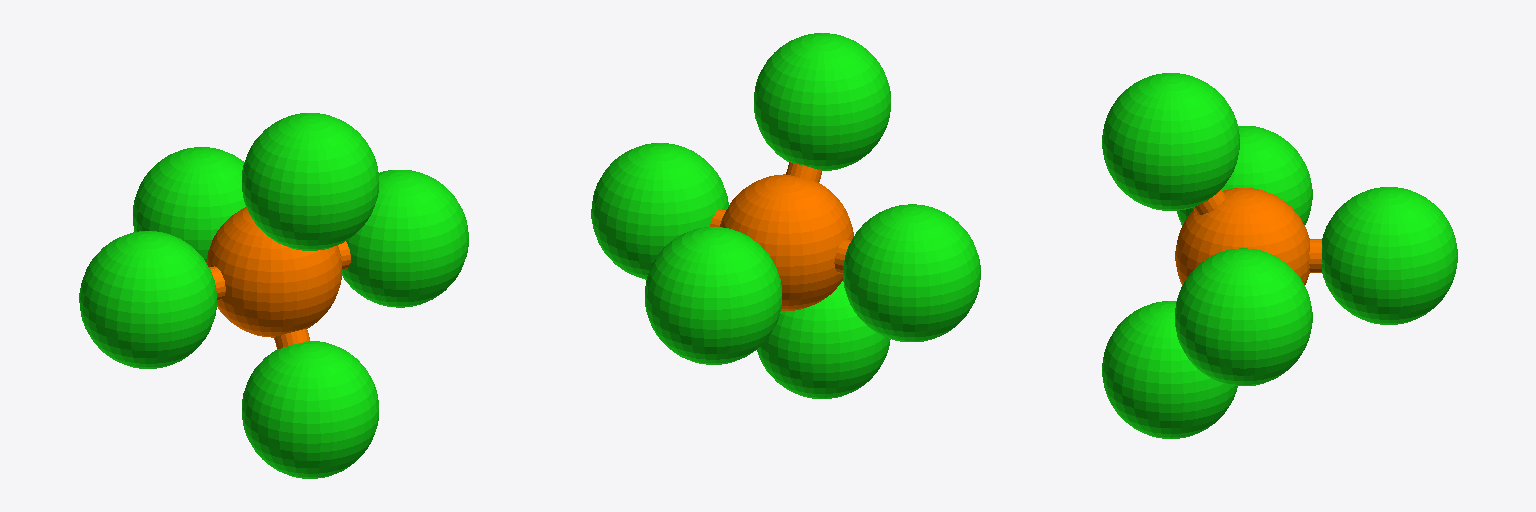
Rendered from PCl5.obj.
3 views of the same model, side by side, from view 1: azimuth 30°, elevation 25°; view 2: azimuth 150°, elevation 25°; view 3: azimuth 270°, elevation 25° (orthographic).
Visible parts, largest first — view 1: Chlorine_ball, Phosphorus_ball, Phosphorus_sticks_cylinder; view 2: Chlorine_ball, Phosphorus_ball, Phosphorus_sticks_cylinder; view 3: Chlorine_ball, Phosphorus_ball, Phosphorus_sticks_cylinder.
Boxes of the visible parts, box(x1,y1,x2,y2) form: Chlorine_ball: box(79, 113, 468, 478); Phosphorus_ball: box(206, 207, 341, 337); Phosphorus_sticks_cylinder: box(209, 241, 350, 348); Chlorine_ball: box(591, 33, 980, 398); Phosphorus_ball: box(720, 174, 853, 310); Phosphorus_sticks_cylinder: box(710, 162, 850, 273); Chlorine_ball: box(1102, 73, 1457, 438); Phosphorus_ball: box(1175, 188, 1309, 285); Phosphorus_sticks_cylinder: box(1193, 189, 1322, 272).
Size of the model in its own units: 127 by 116 by 106.